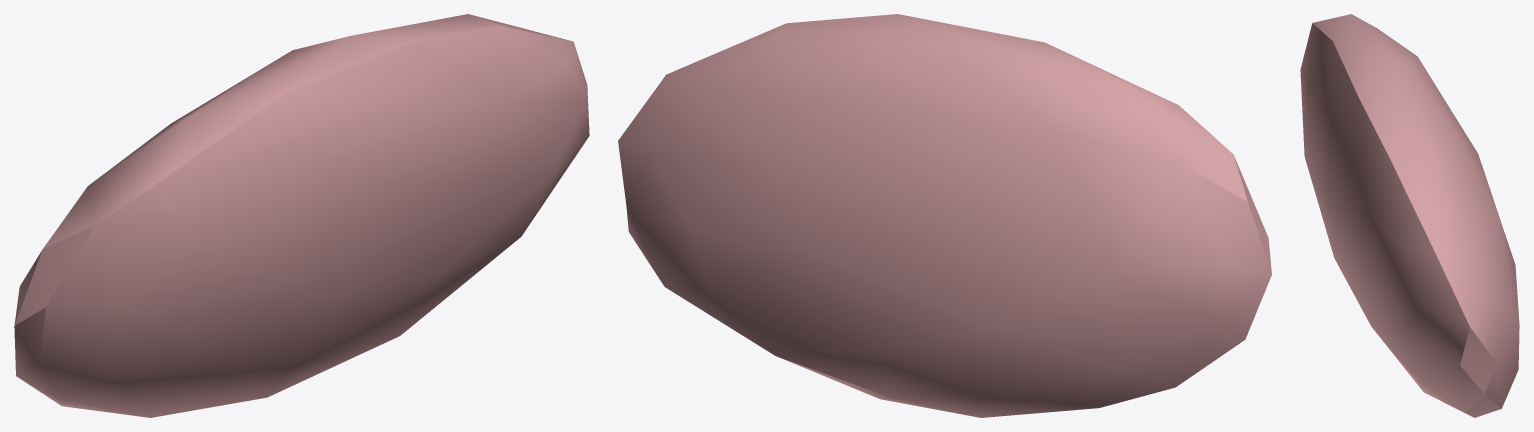
The model's file is fma9477_mm419.glb.
3 views of the same model, side by side, from view 1: azimuth 30°, elevation 25°; view 2: azimuth 150°, elevation 25°; view 3: azimuth 270°, elevation 25° (orthographic). The views are drawn at different scales.
Visible parts, largest first — view 1: FMA9477_MM419; view 2: FMA9477_MM419; view 3: FMA9477_MM419.
Part boxes in pixels (left/top/right/bottom): FMA9477_MM419: left=14, top=14, right=589, bottom=417; FMA9477_MM419: left=618, top=14, right=1271, bottom=417; FMA9477_MM419: left=1300, top=14, right=1519, bottom=417.
Bounding box in the file's own units: 0.00746 × 0.00415 × 0.00254.
